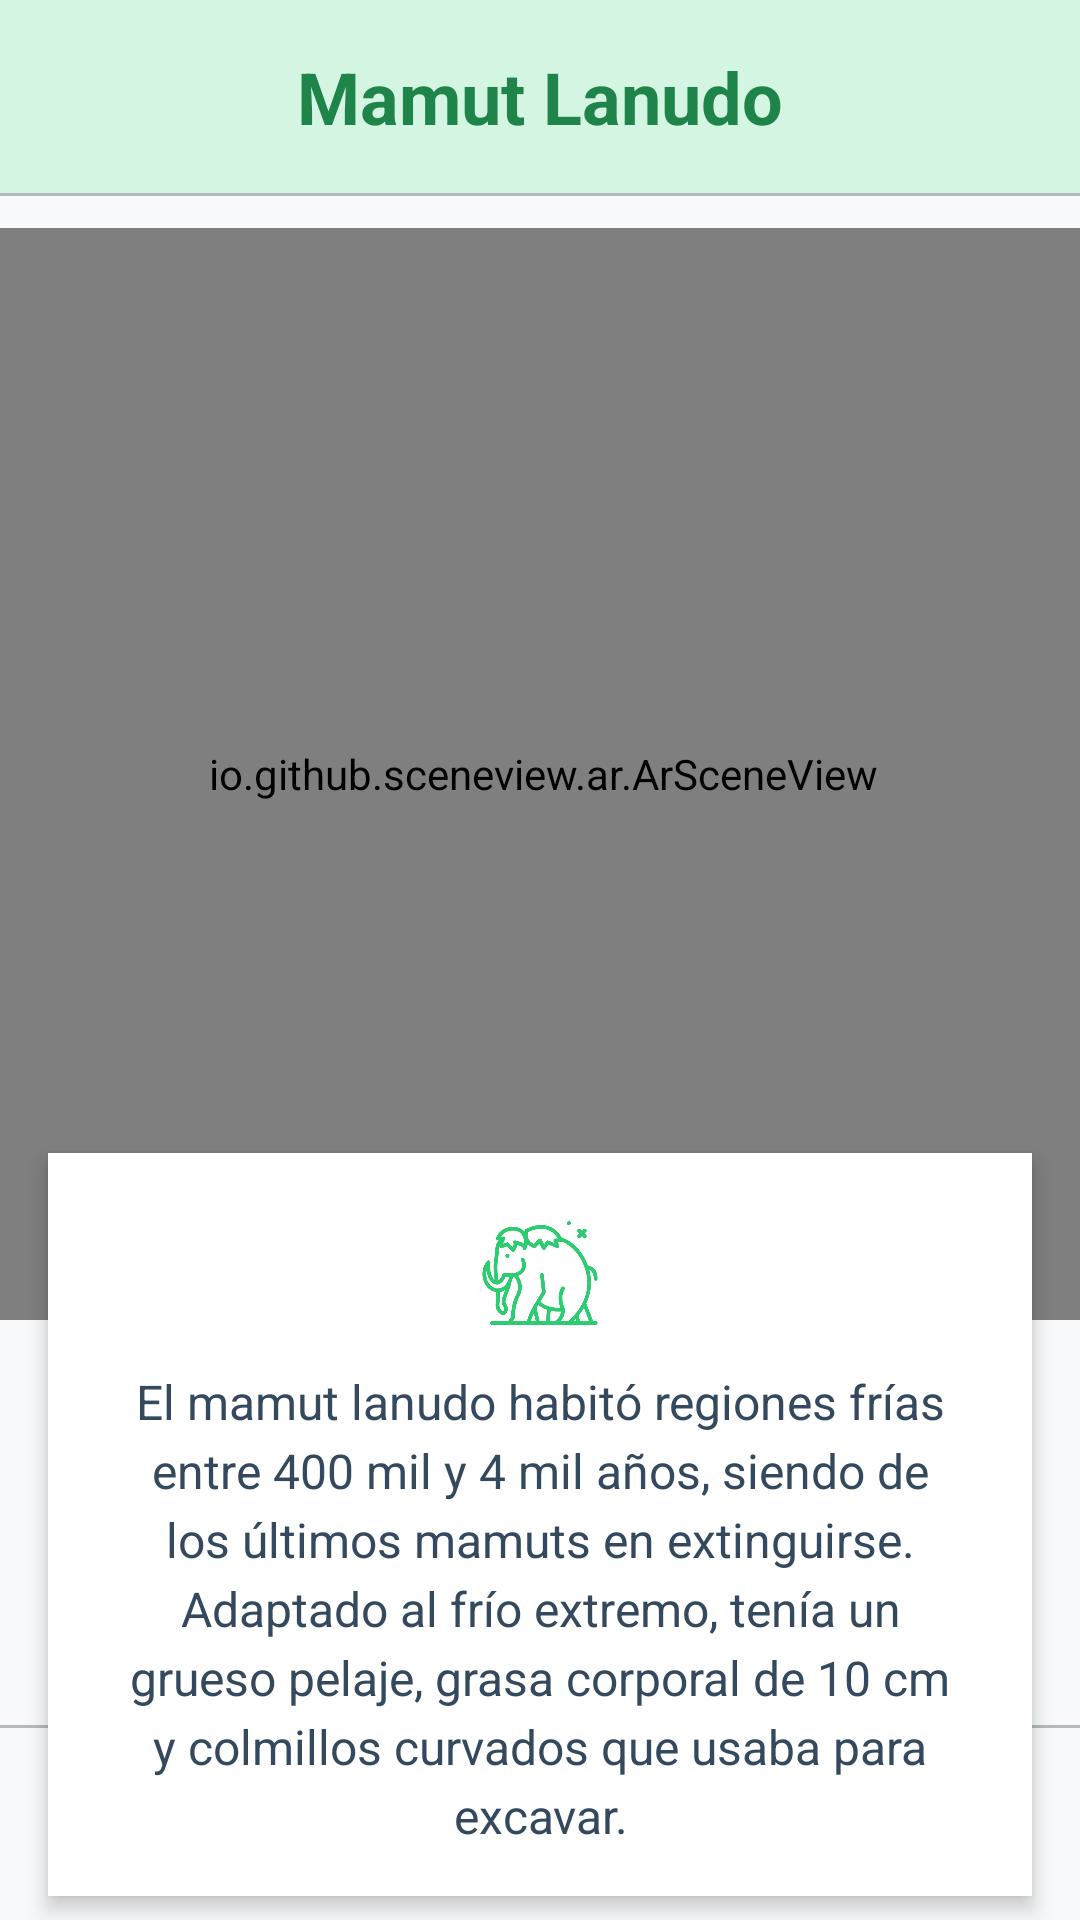

Where to tap for icons on this 1080w x 1920h app screen, as point (x, y):
Icono de mamut: point (540, 1273)
